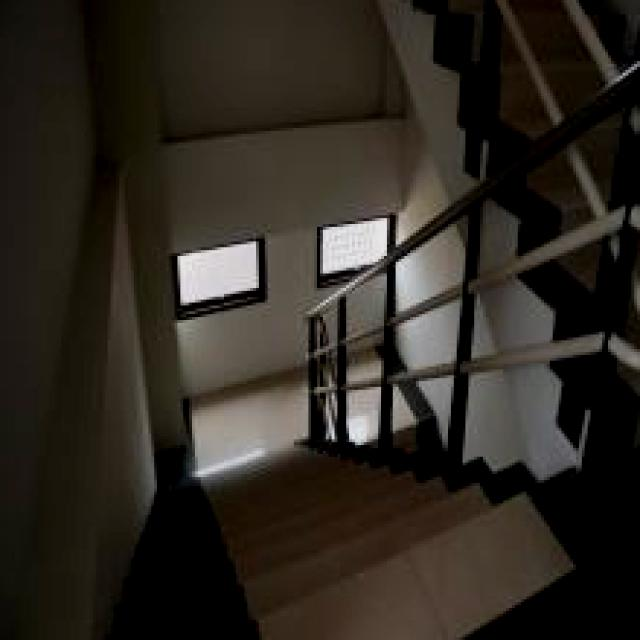downstair: (120, 463, 568, 640)
